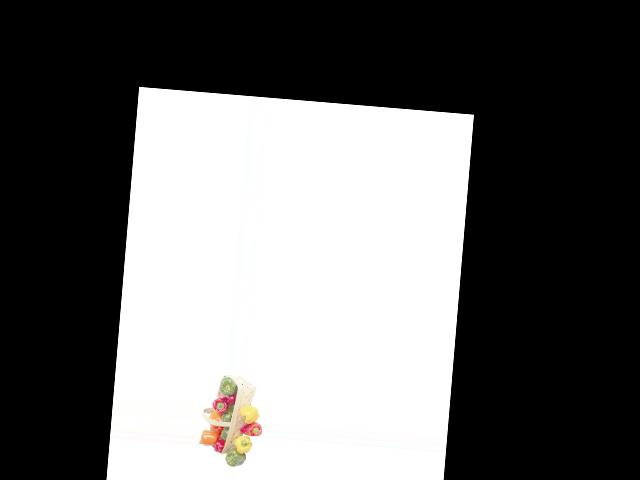bell_pepper: (218, 376, 236, 398)
